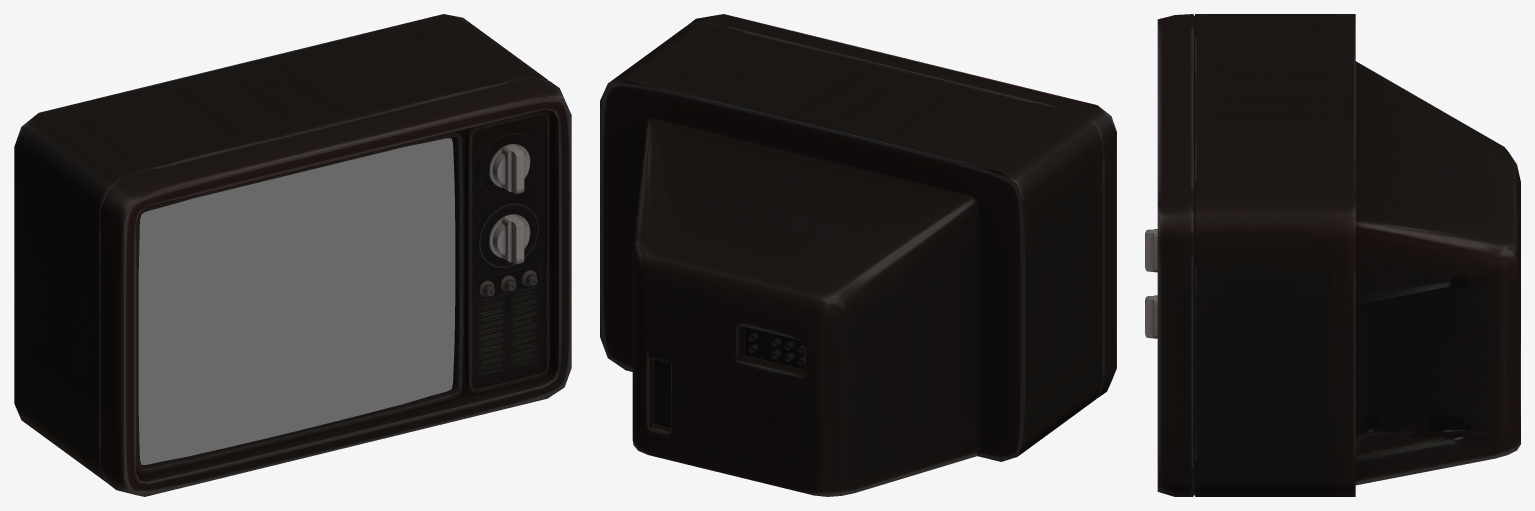
Rendered from retro tv.fbx.
3 views of the same model, side by side, from view 1: azimuth 30°, elevation 25°; view 2: azimuth 150°, elevation 25°; view 3: azimuth 270°, elevation 25° (orthographic). The views are drawn at different scales.
Parts seen in each view (by area): view 1: tv, tv_2; view 2: tv; view 3: tv.
Part boxes in pixels (x1=…): tv: x1=14, y1=14, x2=571, y2=496; tv_2: x1=138, y1=138, x2=455, y2=464; tv: x1=600, y1=14, x2=1116, y2=496; tv: x1=1145, y1=14, x2=1520, y2=496.
Size of the model in its own units: 80.01 by 52.32 by 60.31.
Materials: 3 (2 with a texture image).
